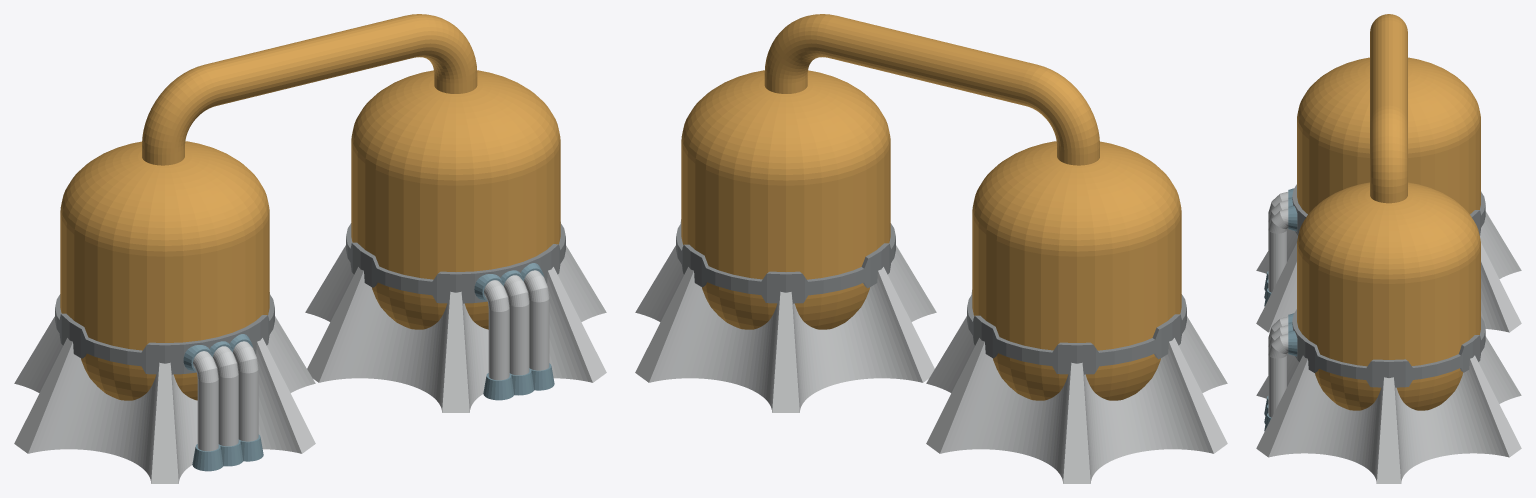
File: PowerStation.glb
3 views of the same model, side by side, from view 1: azimuth 30°, elevation 25°; view 2: azimuth 150°, elevation 25°; view 3: azimuth 270°, elevation 25° (orthographic). The views are drawn at different scales.
Visible parts, largest first — view 1: Mesh_Mesh_head_geo.001_lambert2SG.001; view 2: Mesh_Mesh_head_geo.001_lambert2SG.001; view 3: Mesh_Mesh_head_geo.001_lambert2SG.001.
Part boxes in pixels (left/top/right/bottom): Mesh_Mesh_head_geo.001_lambert2SG.001: left=14, top=14, right=606, bottom=483; Mesh_Mesh_head_geo.001_lambert2SG.001: left=635, top=14, right=1227, bottom=483; Mesh_Mesh_head_geo.001_lambert2SG.001: left=1256, top=14, right=1521, bottom=483.
Bounding box in the file's own units: 93.52 × 52 × 42.22.
